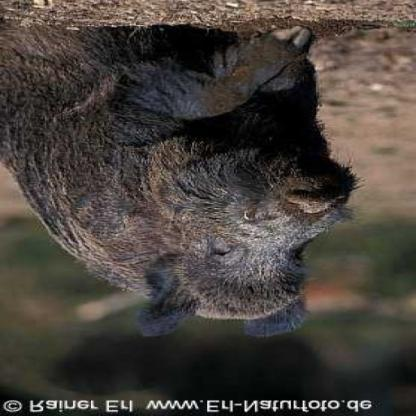boar: (0, 22, 405, 343)
